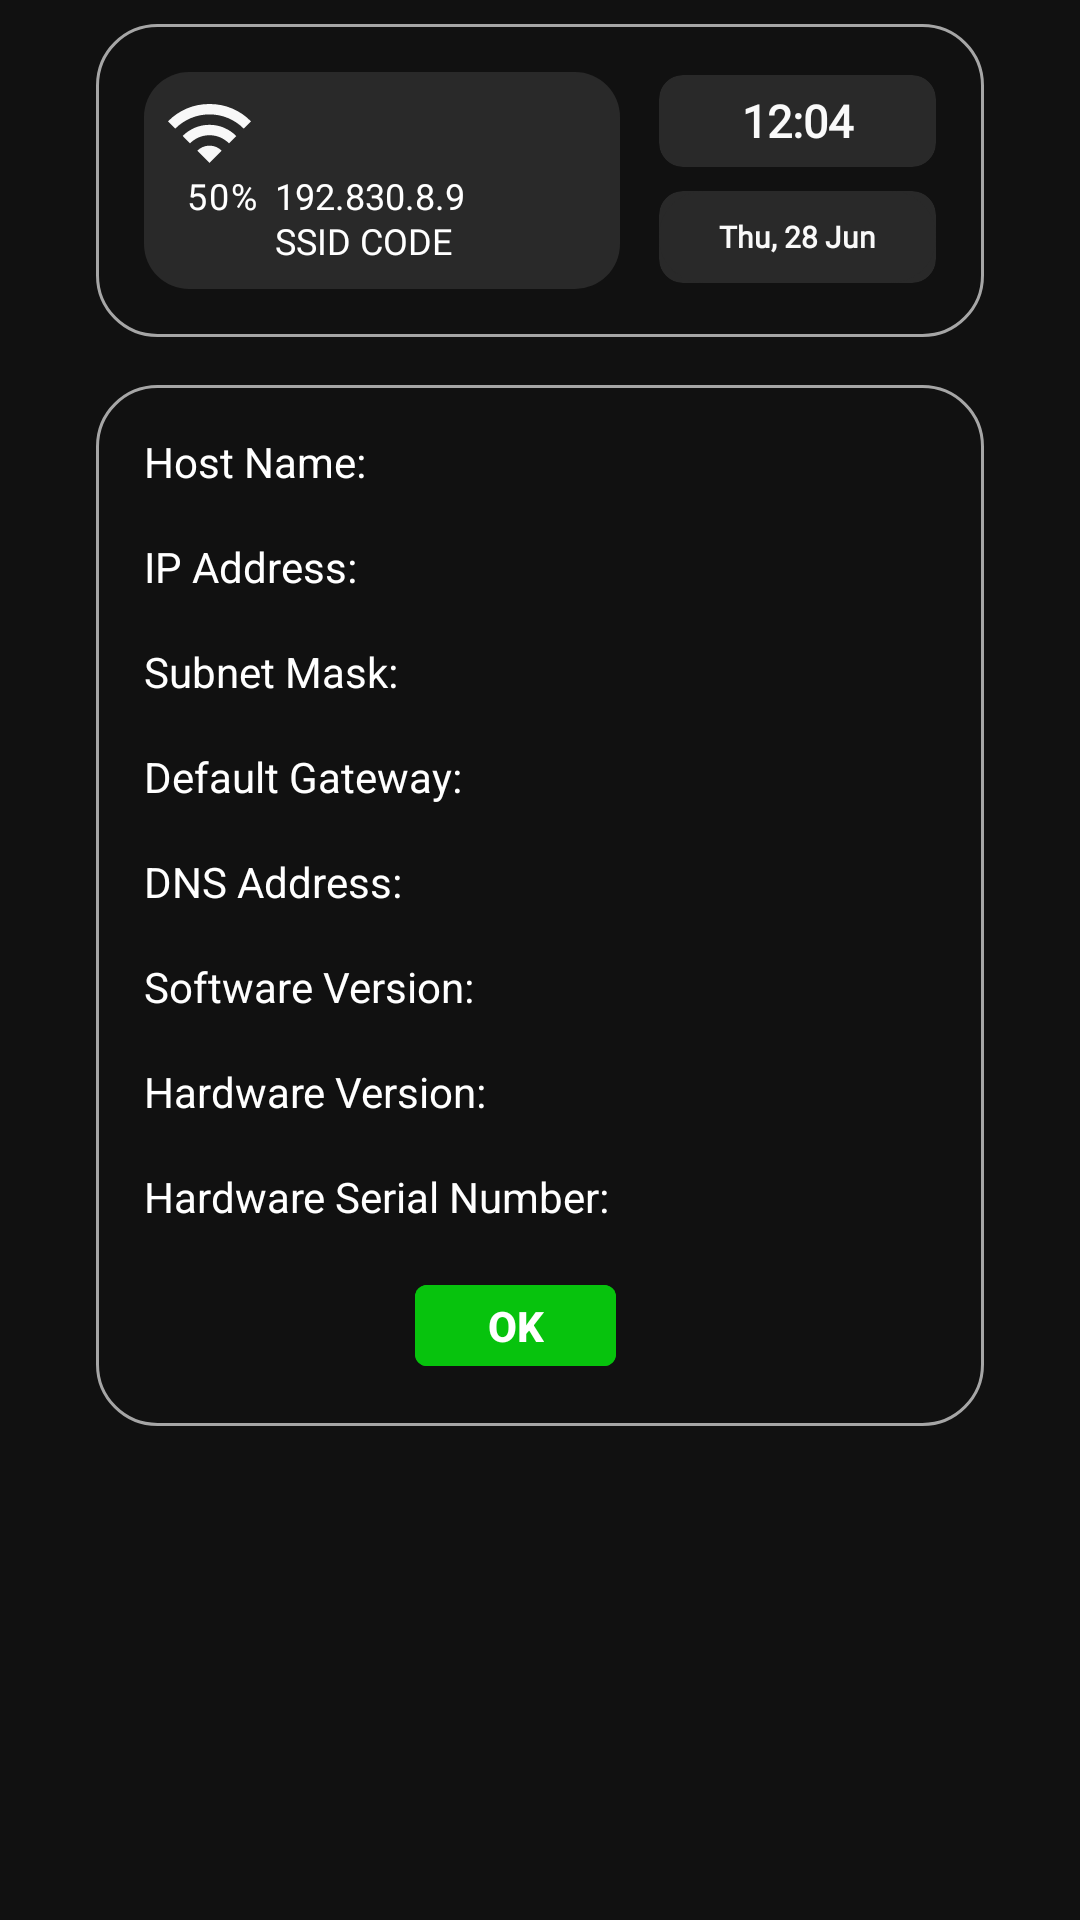

Screen size 1080px×1920px. Icon name, then its box in pixels as (x1, y1, x2, y2):
signal: (168, 104, 251, 163)
